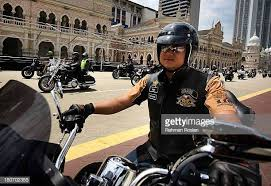helmet: (150, 20, 195, 74)
